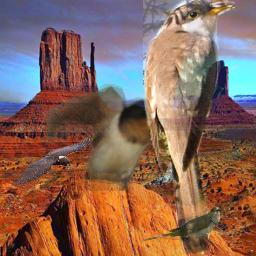Crow: (12, 137, 90, 186)
Cuckoo: (143, 0, 235, 254), (141, 206, 220, 242)
Swallow: (41, 84, 173, 191)
